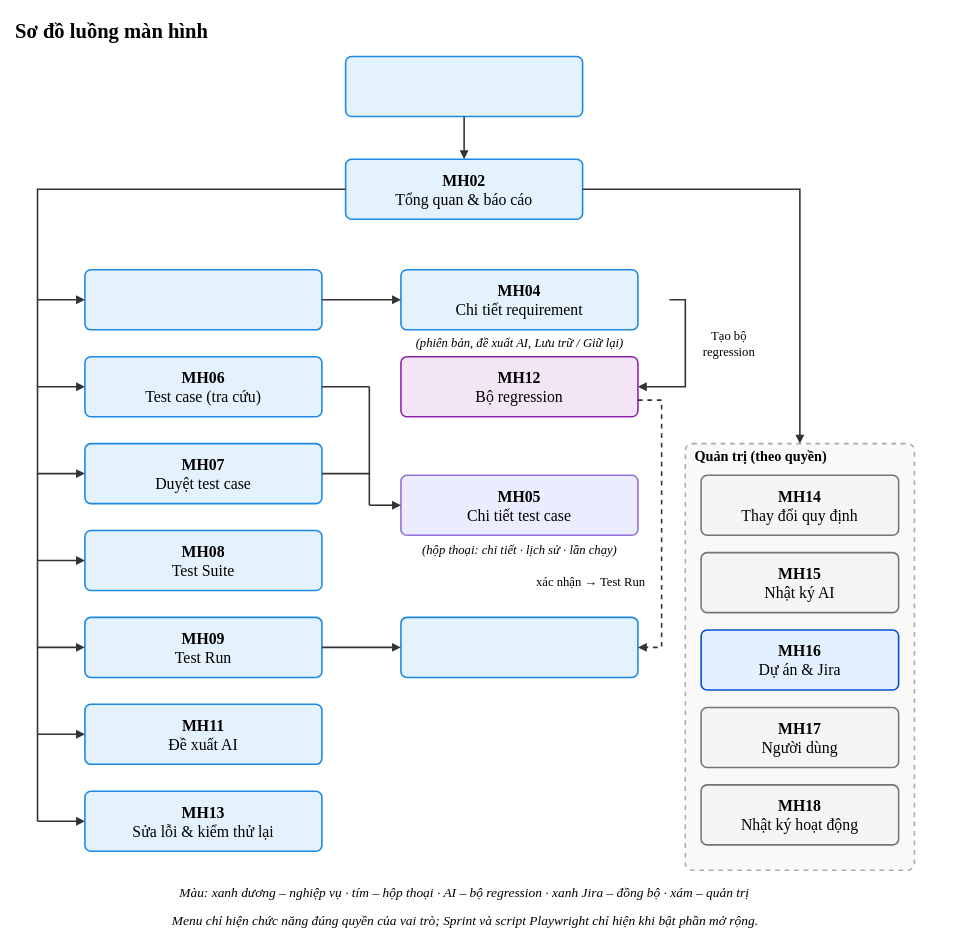
This 975x945 diagram has some shape labels left out. The centre of each missing label's shape, as x and y in pixels:
"MH01 Đăng nhập" belongs at point (463, 86).
"MH03 Requirement (Jira)" belongs at point (203, 299).
"MH10 Chi tiết Test Run" belongs at point (519, 647).
